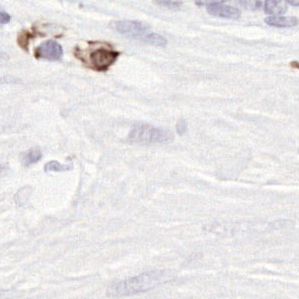Lymphocyte: (81, 41, 121, 72)
